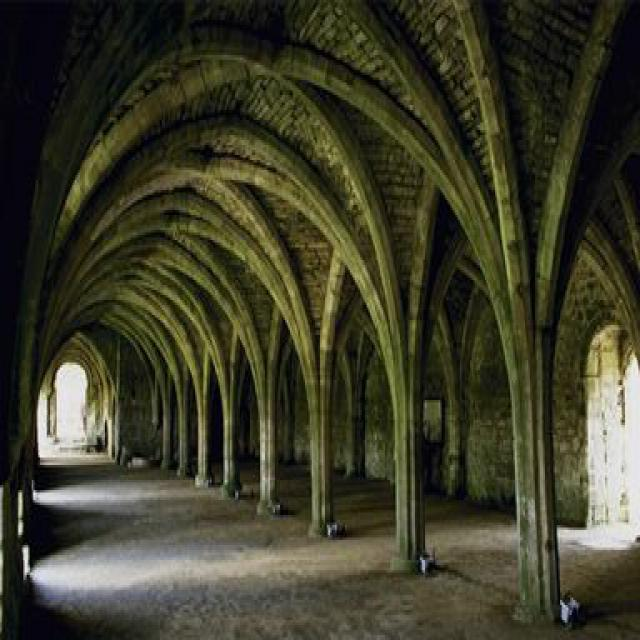column occluded: (495, 320, 563, 622), (383, 360, 427, 570), (255, 325, 278, 510), (307, 382, 333, 535), (218, 352, 240, 495), (193, 362, 210, 485), (175, 380, 188, 478), (160, 380, 172, 468)
door bars: (53, 360, 83, 440)
floor -X: (18, 435, 637, 638)
vault: (38, 330, 112, 395)
wall clock: (82, 255, 638, 530), (0, 418, 37, 635), (83, 385, 115, 455), (33, 390, 53, 450)
